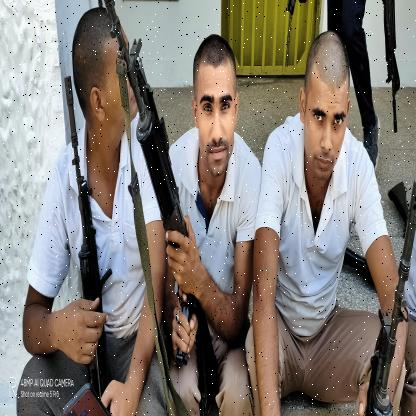rifle: (104, 0, 222, 416), (63, 74, 114, 402), (364, 176, 416, 416), (380, 0, 401, 136), (282, 0, 308, 68)
